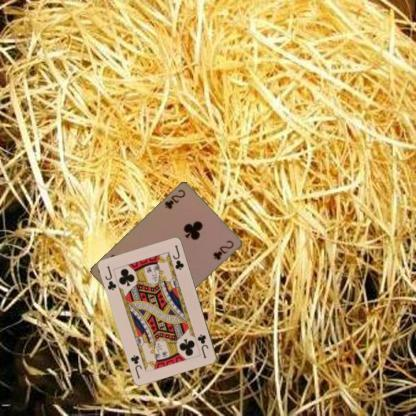2c: (162, 187, 186, 212)
Jc: (102, 263, 118, 292), (196, 332, 210, 360)
